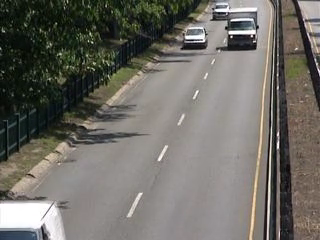car: (182, 26, 209, 52), (212, 2, 231, 22)
truck: (225, 8, 260, 51)
